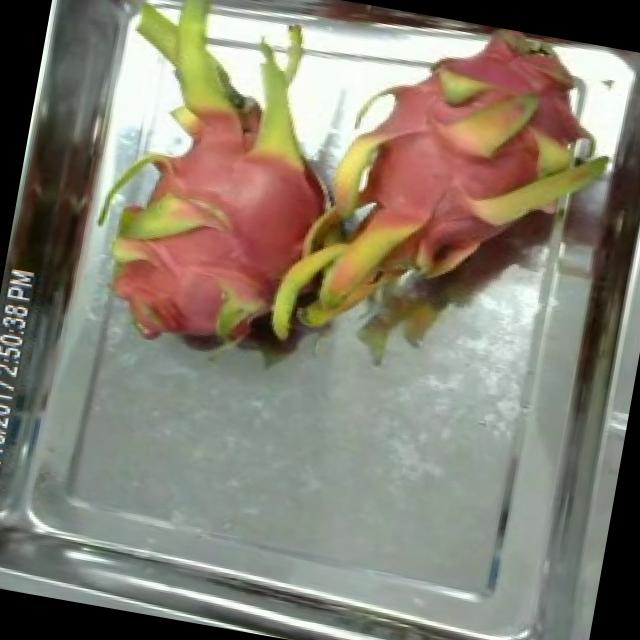Fruit: (74, 172, 305, 377)
